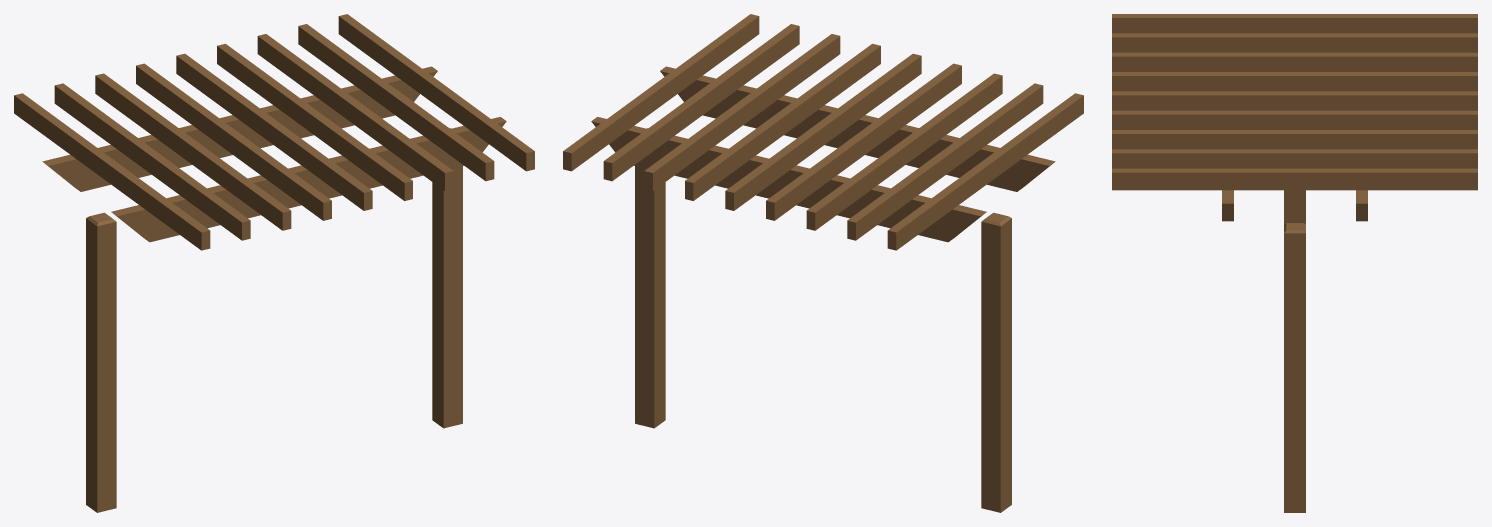
File: pergola_beam_set.obj
3 renders of one model, left to right at view 1: azimuth 30°, elevation 25°; view 2: azimuth 150°, elevation 25°; view 3: azimuth 270°, elevation 25°, orthographic. The views are drawn at different scales.
Visible parts, largest first — view 1: pergola_beam_set; view 2: pergola_beam_set; view 3: pergola_beam_set.
Part boxes in pixels (x1=…): pergola_beam_set: x1=14, y1=14, x2=534, y2=512; pergola_beam_set: x1=563, y1=14, x2=1083, y2=512; pergola_beam_set: x1=1112, y1=14, x2=1477, y2=512.
Size of the model in its own units: 3.6 by 3.01 by 3.
